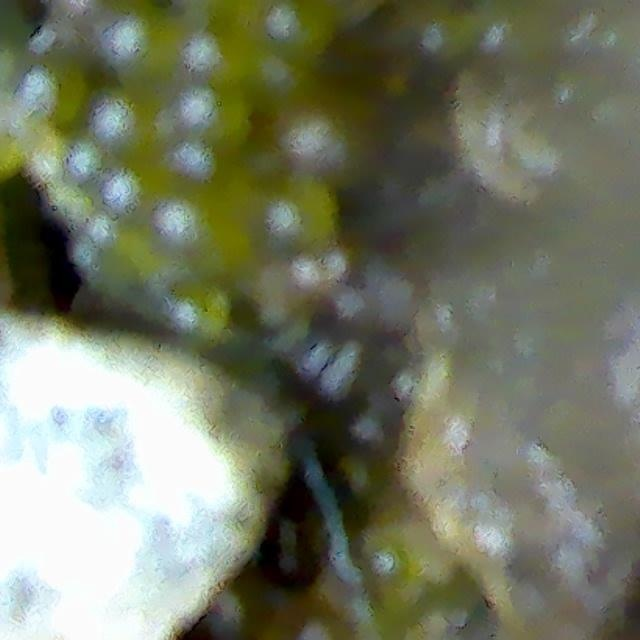SeaGrape: (111, 9, 180, 79), (92, 82, 161, 152), (173, 83, 242, 142)
